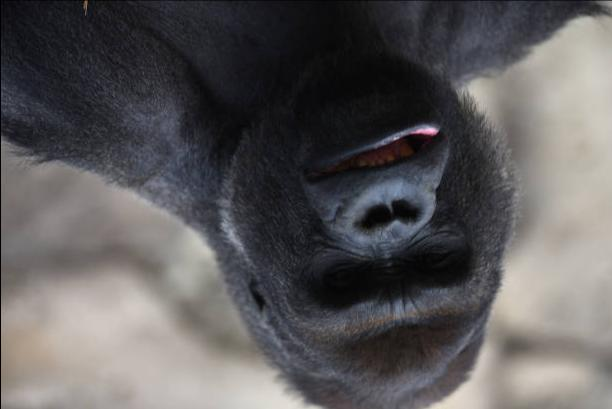gorille_Autres: (10, 0, 548, 409)
